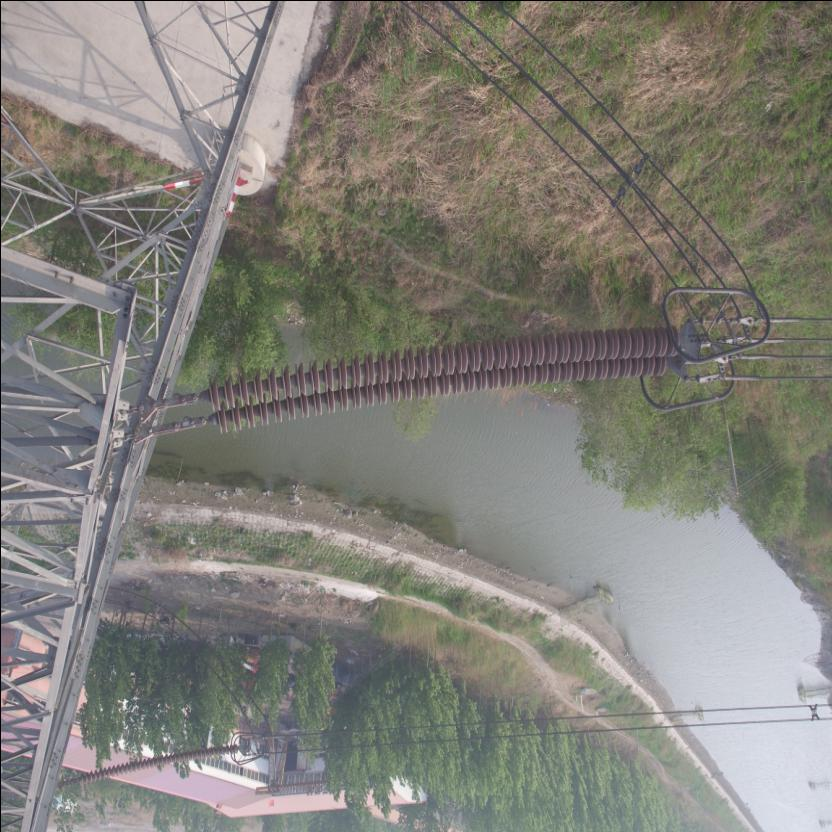insulator: (166, 322, 690, 438), (56, 744, 244, 793)
